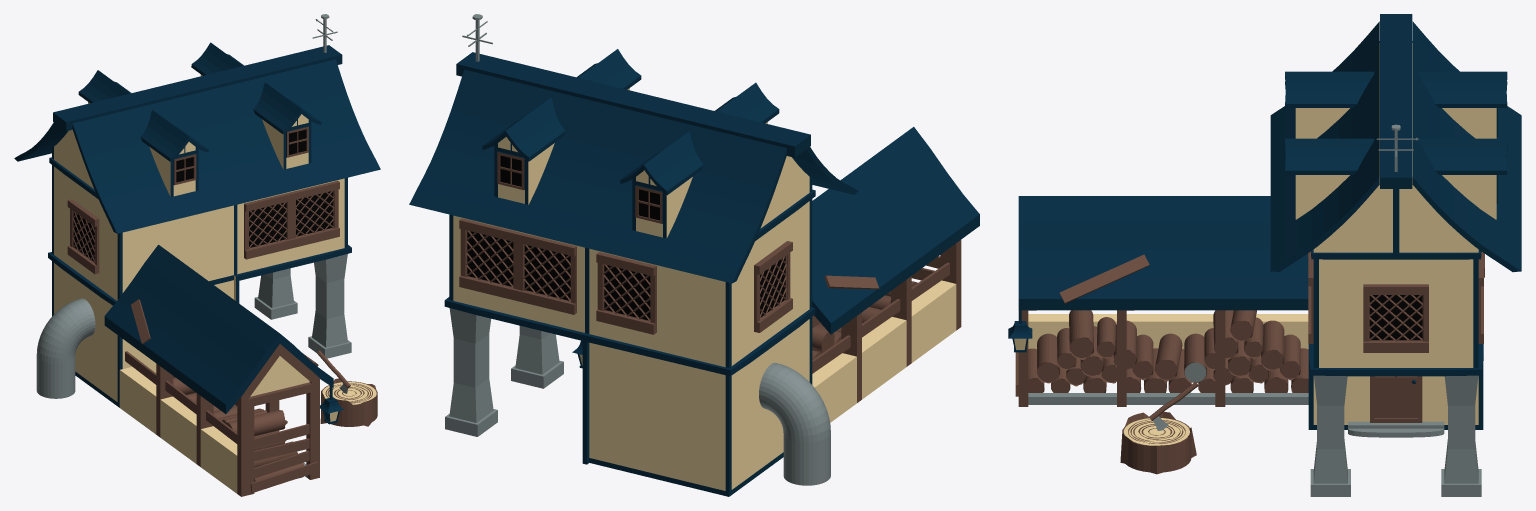
File: Sawmill_joined.fbx
The picture shows the model from 3 angles, left to right: view 1: azimuth 30°, elevation 25°; view 2: azimuth 150°, elevation 25°; view 3: azimuth 270°, elevation 25°; orthographic projection. The views are drawn at different scales.
Parts seen in each view (by area): view 1: Cube.023; view 2: Cube.023; view 3: Cube.023.
Part boxes in pixels (x1,y1,x2,y2): Cube.023: [14, 14, 380, 496]; Cube.023: [409, 14, 979, 496]; Cube.023: [1008, 14, 1521, 496].
Bounding box in the file's own units: 1775 × 1769 × 2178.
